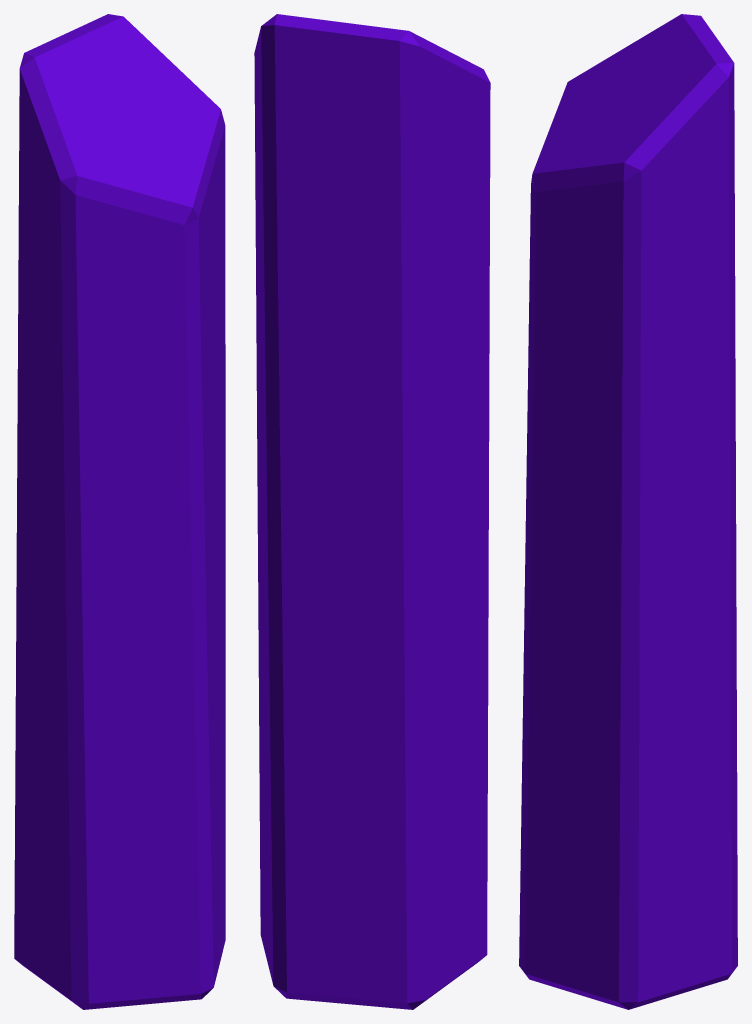
The model's file is Penta_Platform_Sloped.FBX.
3 views of the same model, side by side, from view 1: azimuth 30°, elevation 25°; view 2: azimuth 150°, elevation 25°; view 3: azimuth 270°, elevation 25° (orthographic). The views are drawn at different scales.
Parts seen in each view (by area): view 1: Penta_Platform_Sloped; view 2: Penta_Platform_Sloped; view 3: Penta_Platform_Sloped.
Boxes of the visible parts, bbox=[...] form: Penta_Platform_Sloped: bbox=[14, 14, 225, 1009]; Penta_Platform_Sloped: bbox=[254, 14, 490, 1009]; Penta_Platform_Sloped: bbox=[519, 14, 737, 1009].
Size of the model in its own units: 93.07 by 428 by 92.02.
